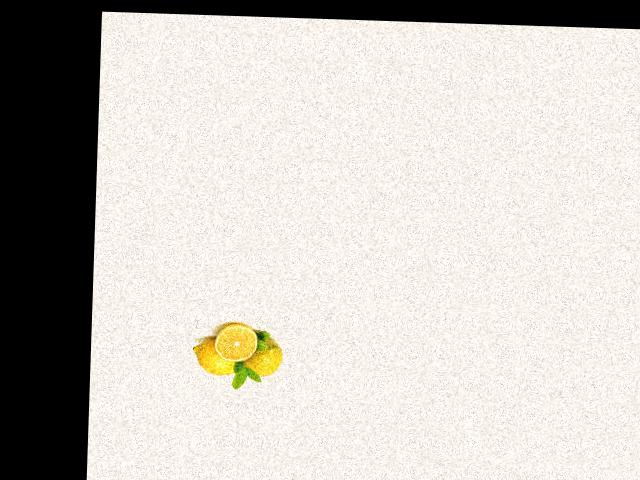lemon: (237, 333, 286, 380)
